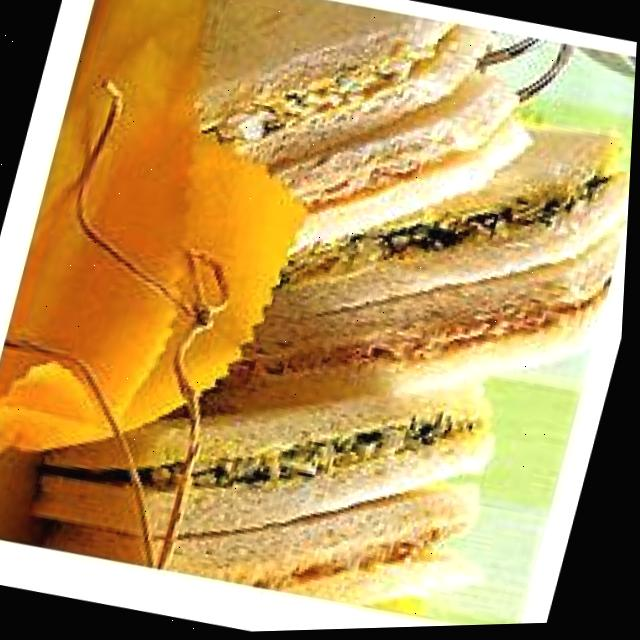三明治: (104, 1, 639, 637)
